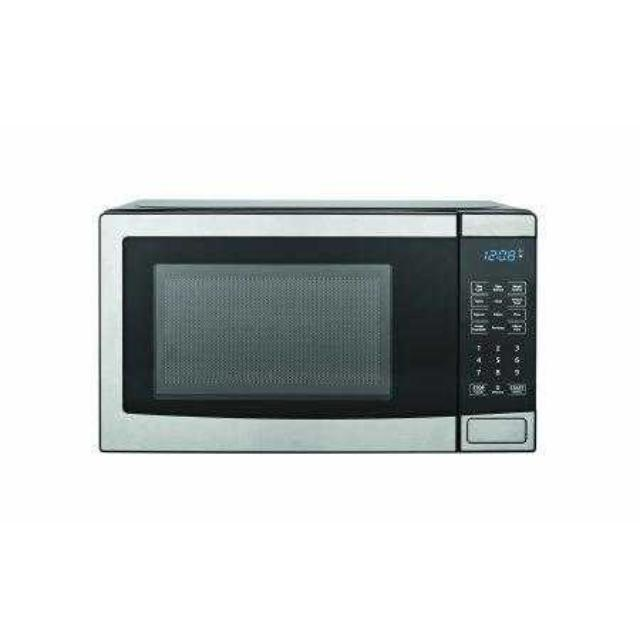Oven: (94, 208, 538, 452)
